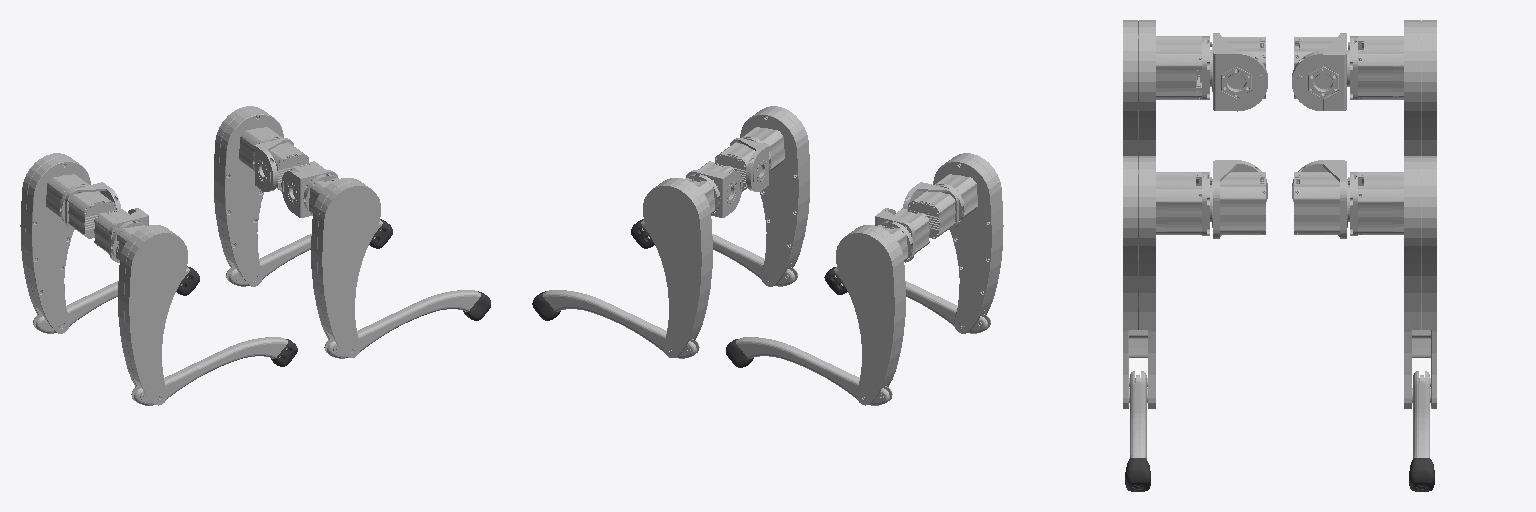
URDF robot description (ri_5036):
<?xml version="1.0" encoding="utf-8"?>
<!-- This URDF was automatically created by SolidWorks to URDF Exporter! Originally created by Stephen Brawner (brawner@gmail.com) 
     Commit Version: 1.6.0-4-g7f85cfe  Build Version: 1.6.7995.38578
     For more information, please see http://wiki.ros.org/sw_urdf_exporter -->
<robot name="ri_5036">
  <mujoco>
    <compiler meshdir="../meshes/" balanceinertia="true" discardvisual="false" />
  </mujoco>

  <link name="base_link">
    <inertial>
      <origin xyz="-0.00337472 0.00228937 -0.00075027" rpy="0 0 0" />
      <mass value="2.43201843" />
      <inertia ixx="0.00612062" ixy="0.00047593" ixz="3.148e-05" iyy="0.01134889" iyz="-3.113e-05" izz="0.01443216" />
    </inertial>
    <visual>
      <origin xyz="0 0 0" rpy="0 0 0" />
      <geometry>
        <mesh filename="../meshes/base_link.STL" />
      </geometry>
      <material name="">
        <color rgba="0.752941176470588 0.752941176470588 0.752941176470588 1" />
      </material>
    </visual>
    <collision>
      <origin xyz="0 -0.0011 0" rpy="0 0 0" />
      <geometry>
        <box size="0.184 0.1512 0.092" />
      </geometry>
    </collision>
  </link>
  <link name="FL_hip">
    <inertial>
      <origin xyz="-0.00685683 0.0027636 -0.0001045" rpy="0 0 0" />
      <mass value="0.2146778" />
      <inertia ixx="0.00010963" ixy="-5.2e-06" ixz="7.3e-07" iyy="0.00012726" iyz="-1.1e-07" izz="0.00012186" />
    </inertial>
    <visual>
      <origin xyz="0 0 0" rpy="0 0 0" />
      <geometry>
        <mesh filename="../meshes/FL_hip.STL" />
      </geometry>
      <material name="">
        <color rgba="0.752941176470588 0.752941176470588 0.752941176470588 1" />
      </material>
    </visual>
    <collision>
      <origin xyz="0 0 0" rpy="1.5707963267948966 0 0" />
      <geometry>
        <cylinder radius="0.030" length="0.054" />
      </geometry>
    </collision>
  </link>
  <joint name="FL_hip_joint" type="revolute">
    <origin xyz="0.15137 0.041 0" rpy="0 0 0" />
    <parent link="base_link" />
    <child link="FL_hip" />
    <axis xyz="1 0 0" />
    <limit lower="-1.76" upper="1.76" effort="21" velocity="50" />
  </joint>
  <link name="FL_thigh">
    <inertial>
      <origin xyz="-0.00610762 -0.01279009 -0.04144918" rpy="0 0 0" />
      <mass value="0.61626132" />
      <inertia ixx="0.00294461" ixy="3.781e-05" ixz="-0.00019912" iyy="0.00291832" iyz="0.00029" izz="0.00058849" />
    </inertial>
    <visual>
      <origin xyz="0 0 0" rpy="0 0 0" />
      <geometry>
        <mesh filename="../meshes/FL_thigh.STL" />
      </geometry>
      <material name="">
        <color rgba="0.752941176470588 0.752941176470588 0.752941176470588 1" />
      </material>
    </visual>
    <collision>
      <origin xyz="-0.0067 0 -0.0867" rpy="0 0 0" />
      <geometry>
        <box size="0.0334 0.028 0.2134" />
      </geometry>
    </collision>
    <collision>
      <origin xyz="0 -0.034 0" rpy="1.5707963267948966 0 0" />
      <geometry>
        <cylinder radius="0.031" length="0.070" />
      </geometry>
    </collision>
  </link>
  <joint name="FL_thigh_joint" type="revolute">
    <origin xyz="0 0.092718 0" rpy="0 0 0" />
    <parent link="FL_hip" />
    <child link="FL_thigh" />
    <axis xyz="0 1 0" />
    <limit lower="-1.02" upper="3.98" effort="21" velocity="50" />
  </joint>
  <link name="FL_calf">
    <inertial>
      <origin xyz="0.00996384 -2.027e-05 -0.07819745" rpy="0 0 0" />
      <mass value="0.08691043" />
      <inertia ixx="0.00048819" ixy="0.0" ixz="3.214e-05" iyy="0.00049437" iyz="1.8e-07" izz="9.52e-06" />
    </inertial>
    <visual>
      <origin xyz="0 0 0" rpy="0 0 0" />
      <geometry>
        <mesh filename="../meshes/FL_calf.STL" />
      </geometry>
      <material name="">
        <color rgba="0.752941176470588 0.752941176470588 0.752941176470588 1" />
      </material>
    </visual>
    <collision>
      <origin xyz="0.010 0 -0.0725" rpy="0 2.9694018390668542 0" />
      <geometry>
        <cylinder radius="0.0105" length="0.11672617529928753" />
      </geometry>
    </collision>
    <collision>
      <origin xyz="0.0145 0 -0.155" rpy="0 -2.925042348613704 0" />
      <geometry>
        <cylinder radius="0.011" length="0.051195702944680815" />
      </geometry>
    </collision>
  </link>
  <joint name="FL_calf_joint" type="revolute">
    <origin xyz="0 0 -0.2" rpy="0 0 0" />
    <parent link="FL_thigh" />
    <child link="FL_calf" />
    <axis xyz="0 1 0" />
    <limit lower="-2.75" upper="-0.56" effort="21" velocity="50" />
  </joint>
  <link name="FL_foot">
    <inertial>
      <origin xyz="-0.00621842 0.00035173 -0.005033" rpy="0 0 0" />
      <mass value="0.01517652" />
      <inertia ixx="1.91e-06" ixy="-3e-08" ixz="5.1e-07" iyy="2.29e-06" iyz="-1e-08" izz="1.69e-06" />
    </inertial>
    <visual>
      <origin xyz="0 0 0" rpy="0 0 0" />
      <geometry>
        <mesh filename="../meshes/FL_foot.STL" />
      </geometry>
      <material name="">
        <color rgba="0.298039215686275 0.298039215686275 0.298039215686275 1" />
      </material>
    </visual>
    <collision>
      <origin xyz="0 0 0" rpy="0 0 0" />
      <geometry>
        <sphere radius="0.020" />
      </geometry>
    </collision>
  </link>
  <joint name="FL_foot_joint" type="fixed">
    <origin xyz="0 0 -0.2" rpy="0 0 0" />
    <parent link="FL_calf" />
    <child link="FL_foot" />
    <axis xyz="0 0 0" />
  </joint>
  <link name="FR_hip">
    <inertial>
      <origin xyz="-0.00685373 -0.0027636 0.00010079" rpy="0 0 0" />
      <mass value="0.2146778" />
      <inertia ixx="0.00010963" ixy="5.2e-06" ixz="-7.3e-07" iyy="0.00012726" iyz="-1.1e-07" izz="0.00012186" />
    </inertial>
    <visual>
      <origin xyz="0 0 0" rpy="0 0 0" />
      <geometry>
        <mesh filename="../meshes/FR_hip.STL" />
      </geometry>
      <material name="">
        <color rgba="0.752941176470588 0.752941176470588 0.752941176470588 1" />
      </material>
    </visual>
    <collision>
      <origin xyz="0 0 0" rpy="1.5707963267948966 0 0" />
      <geometry>
        <cylinder radius="0.030" length="0.054" />
      </geometry>
    </collision>
  </link>
  <joint name="FR_hip_link" type="revolute">
    <origin xyz="0.15137 -0.041 0" rpy="0 0 0" />
    <parent link="base_link" />
    <child link="FR_hip" />
    <axis xyz="1 0 0" />
    <limit lower="-1.76" upper="1.76" effort="21" velocity="50" />
  </joint>
  <link name="FR_thigh">
    <inertial>
      <origin xyz="-0.0061126 0.01279311 -0.04150855" rpy="0 0 0" />
      <mass value="0.61625734" />
      <inertia ixx="0.00294171" ixy="-3.777e-05" ixz="-0.00019764" iyy="0.00291524" iyz="-0.00028899" izz="0.00058816" />
    </inertial>
    <visual>
      <origin xyz="0 0 0" rpy="0 0 0" />
      <geometry>
        <mesh filename="../meshes/FR_thigh.STL" />
      </geometry>
      <material name="">
        <color rgba="0.752941176470588 0.752941176470588 0.752941176470588 1" />
      </material>
    </visual>
    <collision>
      <origin xyz="-0.0067 0 -0.0867" rpy="0 0 0" />
      <geometry>
        <box size="0.0334 0.028 0.2134" />
      </geometry>
    </collision>
    <collision>
      <origin xyz="0 0.034 0" rpy="1.5707963267948966 0 0" />
      <geometry>
        <cylinder radius="0.031" length="0.070" />
      </geometry>
    </collision>
  </link>
  <joint name="FR_thigh_joint" type="revolute">
    <origin xyz="0 -0.092718 0" rpy="0 0 0" />
    <parent link="FR_hip" />
    <child link="FR_thigh" />
    <axis xyz="0 1 0" />
    <limit lower="-1.02" upper="3.98" effort="21" velocity="50" />
  </joint>
  <link name="FR_calf">
    <inertial>
      <origin xyz="0.00996384 -2.027e-05 -0.07819745" rpy="0 0 0" />
      <mass value="0.08691043" />
      <inertia ixx="0.00048819" ixy="0.0" ixz="3.214e-05" iyy="0.00049437" iyz="1.8e-07" izz="9.52e-06" />
    </inertial>
    <visual>
      <origin xyz="0 0 0" rpy="0 0 0" />
      <geometry>
        <mesh filename="../meshes/FR_calf.STL" />
      </geometry>
      <material name="">
        <color rgba="0.752941176470588 0.752941176470588 0.752941176470588 1" />
      </material>
    </visual>
    <collision>
      <origin xyz="0.010 0 -0.0725" rpy="0 2.9694018390668542 0" />
      <geometry>
        <cylinder radius="0.0105" length="0.11672617529928753" />
      </geometry>
    </collision>
    <collision>
      <origin xyz="0.0145 0 -0.155" rpy="0 -2.925042348613704 0" />
      <geometry>
        <cylinder radius="0.011" length="0.051195702944680815" />
      </geometry>
    </collision>
  </link>
  <joint name="FR_calf_joint" type="revolute">
    <origin xyz="0 0 -0.2" rpy="0 0 0" />
    <parent link="FR_thigh" />
    <child link="FR_calf" />
    <axis xyz="0 1 0" />
    <limit lower="-2.75" upper="-0.56" effort="21" velocity="50" />
  </joint>
  <link name="FR_foot">
    <inertial>
      <origin xyz="-0.00631422 -0.00035173 -0.00491229" rpy="0 0 0" />
      <mass value="0.01517652" />
      <inertia ixx="1.92e-06" ixy="2e-08" ixz="5.1e-07" iyy="2.29e-06" iyz="2e-08" izz="1.67e-06" />
    </inertial>
    <visual>
      <origin xyz="0 0 0" rpy="0 0 0" />
      <geometry>
        <mesh filename="../meshes/FR_foot.STL" />
      </geometry>
      <material name="">
        <color rgba="0.298039215686275 0.298039215686275 0.298039215686275 1" />
      </material>
    </visual>
    <collision>
      <origin xyz="0 0 0" rpy="0 0 0" />
      <geometry>
        <sphere radius="0.020" />
      </geometry>
    </collision>
  </link>
  <joint name="FR_foot_joint" type="fixed">
    <origin xyz="0 0 -0.199999999999951" rpy="0 0 0" />
    <parent link="FR_calf" />
    <child link="FR_foot" />
    <axis xyz="0 0 0" />
  </joint>
  <link name="RL_hip">
    <inertial>
      <origin xyz="0.00685683 0.0027636 0.0001045" rpy="0 0 0" />
      <mass value="0.2146778" />
      <inertia ixx="0.00010963" ixy="5.2e-06" ixz="7.3e-07" iyy="0.00012726" iyz="1.1e-07" izz="0.00012186" />
    </inertial>
    <visual>
      <origin xyz="0 0 0" rpy="0 0 0" />
      <geometry>
        <mesh filename="../meshes/RL_hip.STL" />
      </geometry>
      <material name="">
        <color rgba="0.752941176470588 0.752941176470588 0.752941176470588 1" />
      </material>
    </visual>
    <collision>
      <origin xyz="0 0 0" rpy="1.5707963267948966 0 0" />
      <geometry>
        <cylinder radius="0.030" length="0.054" />
      </geometry>
    </collision>
  </link>
  <joint name="RL_hip_joint" type="revolute">
    <origin xyz="-0.15137 0.041 0" rpy="0 0 0" />
    <parent link="base_link" />
    <child link="RL_hip" />
    <axis xyz="1 0 0" />
    <limit lower="-1.76" upper="1.76" effort="21" velocity="50" />
  </joint>
  <link name="RL_thigh">
    <inertial>
      <origin xyz="-0.00610762 -0.01279009 -0.04144918" rpy="0 0 0" />
      <mass value="0.61626132" />
      <inertia ixx="0.00294461" ixy="3.781e-05" ixz="-0.00019912" iyy="0.00291832" iyz="0.00029" izz="0.00058849" />
    </inertial>
    <visual>
      <origin xyz="0 0 0" rpy="0 0 0" />
      <geometry>
        <mesh filename="../meshes/RL_thigh.STL" />
      </geometry>
      <material name="">
        <color rgba="0.752941176470588 0.752941176470588 0.752941176470588 1" />
      </material>
    </visual>
    <collision>
      <origin xyz="-0.0067 0 -0.0867" rpy="0 0 0" />
      <geometry>
        <box size="0.0334 0.028 0.2134" />
      </geometry>
    </collision>
    <collision>
      <origin xyz="0 -0.034 0" rpy="1.5707963267948966 0 0" />
      <geometry>
        <cylinder radius="0.031" length="0.070" />
      </geometry>
    </collision>
  </link>
  <joint name="RL_thigh_joint" type="revolute">
    <origin xyz="0 0.092718 0" rpy="0 0 0" />
    <parent link="RL_hip" />
    <child link="RL_thigh" />
    <axis xyz="0 1 0" />
    <limit lower="-1.02" upper="3.98" effort="21" velocity="50" />
  </joint>
  <link name="RL_calf">
    <inertial>
      <origin xyz="0.00996384 -2.027e-05 -0.07819745" rpy="0 0 0" />
      <mass value="0.08691043" />
      <inertia ixx="0.00048819" ixy="0.0" ixz="3.214e-05" iyy="0.00049437" iyz="1.8e-07" izz="9.52e-06" />
    </inertial>
    <visual>
      <origin xyz="0 0 0" rpy="0 0 0" />
      <geometry>
        <mesh filename="../meshes/RL_calf.STL" />
      </geometry>
      <material name="">
        <color rgba="0.752941176470588 0.752941176470588 0.752941176470588 1" />
      </material>
    </visual>
    <collision>
      <origin xyz="0.010 0 -0.0725" rpy="0 2.9694018390668542 0" />
      <geometry>
        <cylinder radius="0.0105" length="0.11672617529928753" />
      </geometry>
    </collision>
    <collision>
      <origin xyz="0.0145 0 -0.155" rpy="0 -2.925042348613704 0" />
      <geometry>
        <cylinder radius="0.011" length="0.051195702944680815" />
      </geometry>
    </collision>
  </link>
  <joint name="RL_calf_joint" type="revolute">
    <origin xyz="0 0 -0.2" rpy="0 0 0" />
    <parent link="RL_thigh" />
    <child link="RL_calf" />
    <axis xyz="0 1 0" />
    <limit lower="-2.75" upper="-0.56" effort="21" velocity="50" />
  </joint>
  <link name="RL_foot">
    <inertial>
      <origin xyz="-0.00621842 0.00035173 -0.005033" rpy="0 0 0" />
      <mass value="0.01517652" />
      <inertia ixx="1.91e-06" ixy="-3e-08" ixz="5.1e-07" iyy="2.29e-06" iyz="-1e-08" izz="1.69e-06" />
    </inertial>
    <visual>
      <origin xyz="0 0 0" rpy="0 0 0" />
      <geometry>
        <mesh filename="../meshes/RL_foot.STL" />
      </geometry>
      <material name="">
        <color rgba="0.298039215686275 0.298039215686275 0.298039215686275 1" />
      </material>
    </visual>
    <collision>
      <origin xyz="0 0 0" rpy="0 0 0" />
      <geometry>
        <sphere radius="0.020" />
      </geometry>
    </collision>
  </link>
  <joint name="RL_foot_joint" type="fixed">
    <origin xyz="0 0 -0.2" rpy="0 0 0" />
    <parent link="RL_calf" />
    <child link="RL_foot" />
    <axis xyz="0 0 0" />
  </joint>
  <link name="RR_hip">
    <inertial>
      <origin xyz="0.00685993 -0.0027636 -0.00010822" rpy="0 0 0" />
      <mass value="0.2146778" />
      <inertia ixx="0.00010963" ixy="-5.2e-06" ixz="-7.3e-07" iyy="0.00012726" iyz="1.1e-07" izz="0.00012186" />
    </inertial>
    <visual>
      <origin xyz="0 0 0" rpy="0 0 0" />
      <geometry>
        <mesh filename="../meshes/RR_hip.STL" />
      </geometry>
      <material name="">
        <color rgba="0.752941176470588 0.752941176470588 0.752941176470588 1" />
      </material>
    </visual>
    <collision>
      <origin xyz="0 0 0" rpy="1.5707963267948966 0 0" />
      <geometry>
        <cylinder radius="0.030" length="0.054" />
      </geometry>
    </collision>
  </link>
  <joint name="RR_hip_joint" type="revolute">
    <origin xyz="-0.15137 -0.041 0" rpy="0 0 0" />
    <parent link="base_link" />
    <child link="RR_hip" />
    <axis xyz="1 0 0" />
    <limit lower="-1.76" upper="1.76" effort="21" velocity="50" />
  </joint>
  <link name="RR_thigh">
    <inertial>
      <origin xyz="-0.0061126 0.01279311 -0.04150855" rpy="0 0 0" />
      <mass value="0.61625734" />
      <inertia ixx="0.00294171" ixy="-3.777e-05" ixz="-0.00019764" iyy="0.00291524" iyz="-0.00028899" izz="0.00058816" />
    </inertial>
    <visual>
      <origin xyz="0 0 0" rpy="0 0 0" />
      <geometry>
        <mesh filename="../meshes/RR_thigh.STL" />
      </geometry>
      <material name="">
        <color rgba="0.752941176470588 0.752941176470588 0.752941176470588 1" />
      </material>
    </visual>
    <collision>
      <origin xyz="-0.0067 0 -0.0867" rpy="0 0 0" />
      <geometry>
        <box size="0.0334 0.028 0.2134" />
      </geometry>
    </collision>
    <collision>
      <origin xyz="0 0.034 0" rpy="1.5707963267948966 0 0" />
      <geometry>
        <cylinder radius="0.031" length="0.070" />
      </geometry>
    </collision>
  </link>
  <joint name="RR_thigh_joint" type="revolute">
    <origin xyz="0 -0.092718 0" rpy="0 0 0" />
    <parent link="RR_hip" />
    <child link="RR_thigh" />
    <axis xyz="0 1 0" />
    <limit lower="-1.02" upper="3.98" effort="21" velocity="50" />
  </joint>
  <link name="RR_calf">
    <inertial>
      <origin xyz="0.00996384 -2.027e-05 -0.07819745" rpy="0 0 0" />
      <mass value="0.08691043" />
      <inertia ixx="0.00048819" ixy="0.0" ixz="3.214e-05" iyy="0.00049437" iyz="1.8e-07" izz="9.52e-06" />
    </inertial>
    <visual>
      <origin xyz="0 0 0" rpy="0 0 0" />
      <geometry>
        <mesh filename="../meshes/RR_calf.STL" />
      </geometry>
      <material name="">
        <color rgba="0.752941176470588 0.752941176470588 0.752941176470588 1" />
      </material>
    </visual>
    <collision>
      <origin xyz="0.010 0 -0.0725" rpy="0 2.9694018390668542 0" />
      <geometry>
        <cylinder radius="0.0105" length="0.11672617529928753" />
      </geometry>
    </collision>
    <collision>
      <origin xyz="0.0145 0 -0.155" rpy="0 -2.925042348613704 0" />
      <geometry>
        <cylinder radius="0.011" length="0.051195702944680815" />
      </geometry>
    </collision>
  </link>
  <joint name="RR_calf_joint" type="revolute">
    <origin xyz="0 0 -0.2" rpy="0 0 0" />
    <parent link="RR_thigh" />
    <child link="RR_calf" />
    <axis xyz="0 1 0" />
    <limit lower="-2.75" upper="-0.56" effort="21" velocity="50" />
  </joint>
  <link name="RR_foot">
    <inertial>
      <origin xyz="-0.00631422 -0.00035173 -0.00491229" rpy="0 0 0" />
      <mass value="0.01517652" />
      <inertia ixx="1.92e-06" ixy="2e-08" ixz="5.1e-07" iyy="2.29e-06" iyz="2e-08" izz="1.67e-06" />
    </inertial>
    <visual>
      <origin xyz="0 0 0" rpy="0 0 0" />
      <geometry>
        <mesh filename="../meshes/RR_foot.STL" />
      </geometry>
      <material name="">
        <color rgba="0.298039215686275 0.298039215686275 0.298039215686275 1" />
      </material>
    </visual>
    <collision>
      <origin xyz="0 0 0" rpy="0 0 0" />
      <geometry>
        <sphere radius="0.020" />
      </geometry>
    </collision>
  </link>
  <joint name="RR_foot_joint" type="fixed">
    <origin xyz="0 0 -0.2" rpy="0 0 0" />
    <parent link="RR_calf" />
    <child link="RR_foot" />
    <axis xyz="0 0 0" />
  </joint>
</robot>

--- What the picture shows (computed from the rendered views, not written in the file) ---
Views: 3 orthographic renders of the robot side by side, from view 1: azimuth 30°, elevation 25°; view 2: azimuth 150°, elevation 25°; view 3: azimuth 270°, elevation 25°.
Robot: ri_5036 — 17 links, 16 joints (12 revolute, 4 fixed); root link base_link; default pose: all joints at 0 but 4 set to mid-range because 0 is outside their limits (FL_calf_joint = -1.66, FR_calf_joint = -1.66, RL_calf_joint = -1.66, RR_calf_joint = -1.66).
Visible links, largest first — view 1: RR_thigh, FR_thigh, RL_thigh, FL_thigh, RR_calf, FR_calf, RL_hip, FL_hip, FR_hip, RR_hip, FL_calf, RL_calf; view 2: RL_thigh, FL_thigh, RR_thigh, FR_thigh, RL_calf, FL_calf, RR_hip, FR_hip, FL_hip, RL_hip, FR_calf, RR_calf; view 3: FL_thigh, FR_thigh, RL_thigh, RR_thigh, FL_hip, FR_hip, RR_hip, RL_hip, FR_calf, FL_calf, FL_foot, FR_foot.
Boxes of the visible links, bbox=[...] form: RR_thigh: bbox=[110, 221, 187, 405]; FR_thigh: bbox=[303, 174, 380, 357]; RL_thigh: bbox=[20, 153, 90, 333]; FL_thigh: bbox=[214, 106, 283, 286]; RR_calf: bbox=[131, 337, 287, 405]; FR_calf: bbox=[324, 290, 480, 358]; RL_hip: bbox=[65, 182, 120, 238]; FL_hip: bbox=[255, 138, 308, 191]; FR_hip: bbox=[281, 161, 337, 217]; RR_hip: bbox=[94, 208, 148, 262]; FL_calf: bbox=[226, 220, 382, 286]; RL_calf: bbox=[33, 267, 189, 333]; RL_thigh: bbox=[836, 221, 913, 405]; FL_thigh: bbox=[643, 174, 720, 357]; RR_thigh: bbox=[933, 153, 1003, 333]; FR_thigh: bbox=[740, 106, 809, 286]; RL_calf: bbox=[736, 337, 892, 405]; FL_calf: bbox=[543, 290, 699, 358]; RR_hip: bbox=[902, 182, 958, 238]; FR_hip: bbox=[715, 138, 768, 191]; FL_hip: bbox=[686, 161, 742, 217]; RL_hip: bbox=[875, 208, 929, 262]; FR_calf: bbox=[641, 220, 797, 286]; RR_calf: bbox=[834, 267, 990, 333]; FL_thigh: bbox=[1348, 156, 1436, 408]; FR_thigh: bbox=[1123, 156, 1211, 408]; RL_thigh: bbox=[1348, 20, 1436, 155]; RR_thigh: bbox=[1123, 20, 1211, 155]; FL_hip: bbox=[1292, 160, 1349, 238]; FR_hip: bbox=[1210, 160, 1267, 238]; RR_hip: bbox=[1210, 33, 1267, 111]; RL_hip: bbox=[1292, 33, 1349, 110]; FR_calf: bbox=[1129, 371, 1147, 458]; FL_calf: bbox=[1413, 371, 1430, 458]; FL_foot: bbox=[1409, 458, 1434, 491]; FR_foot: bbox=[1125, 458, 1150, 491].
Bounding box of the posed robot: 0.5717 × 0.2954 × 0.2604 m (x, y, z).
Meshes: 17 distinct files referenced, 16 mesh visuals loaded (16 binary STL); not drawn: 1 (reference not matched to a file when rendering).
